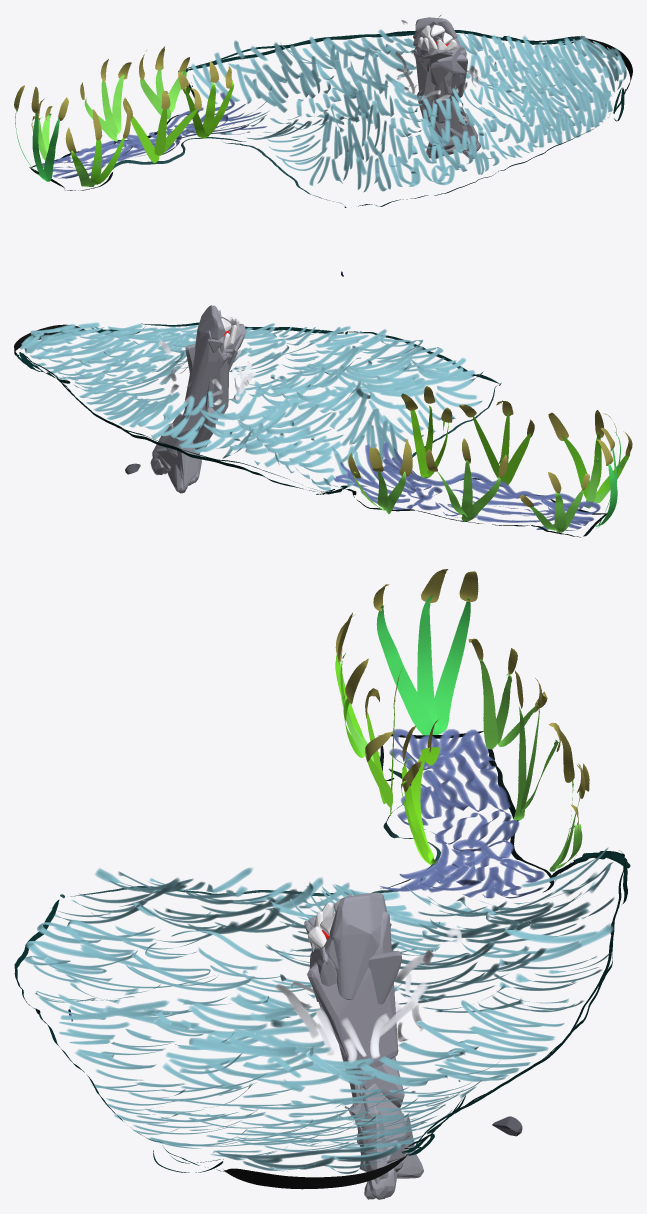
3 views of the same model, one above another, from view 1: azimuth 30°, elevation 25°; view 2: azimuth 150°, elevation 25°; view 3: azimuth 270°, elevation 25° (orthographic). The views are drawn at different scales.
Parts seen in each view (by area): view 1: brush_Highlighter_g0_b0_4, brush_TaperedMarker_g0_b0_0, brush_Highlighter_g0_b1_5, brush_MatteHull_g0_b0_3; view 2: brush_Highlighter_g0_b0_4, brush_Highlighter_g0_b1_5, brush_TaperedMarker_g0_b0_0, brush_MatteHull_g0_b0_3; view 3: brush_Highlighter_g0_b0_4, brush_Highlighter_g0_b1_5, brush_TaperedMarker_g0_b0_0, brush_MatteHull_g0_b0_3.
Part boxes in pixels (x1=…): brush_Highlighter_g0_b0_4: x1=309, y1=29, x2=626, y2=192; brush_TaperedMarker_g0_b0_0: x1=14, y1=30, x2=632, y2=276; brush_Highlighter_g0_b1_5: x1=42, y1=14, x2=483, y2=185; brush_MatteHull_g0_b0_3: x1=413, y1=17, x2=480, y2=158; brush_Highlighter_g0_b0_4: x1=20, y1=322, x2=483, y2=452; brush_Highlighter_g0_b1_5: x1=158, y1=340, x2=600, y2=530; brush_TaperedMarker_g0_b0_0: x1=14, y1=322, x2=632, y2=537; brush_MatteHull_g0_b0_3: x1=125, y1=305, x2=246, y2=493; brush_Highlighter_g0_b0_4: x1=24, y1=868, x2=609, y2=1173; brush_Highlighter_g0_b1_5: x1=149, y1=729, x2=614, y2=1062; brush_TaperedMarker_g0_b0_0: x1=14, y1=569, x2=630, y2=1189; brush_MatteHull_g0_b0_3: x1=304, y1=892, x2=522, y2=1199.
Size of the model in its own units: 6 by 1.64 by 3.21.
Materials: 3 (2 with a texture image).
